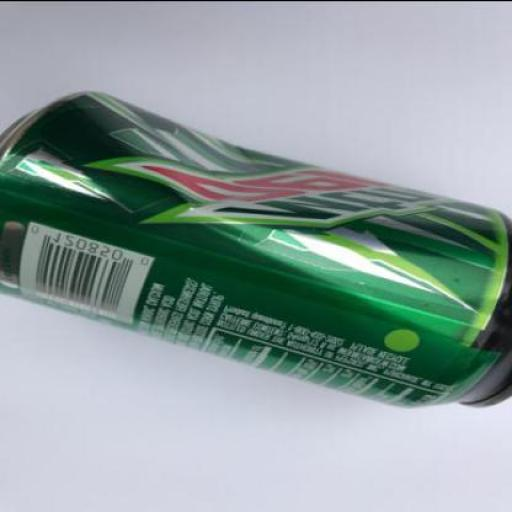metal: (1, 88, 511, 408)
